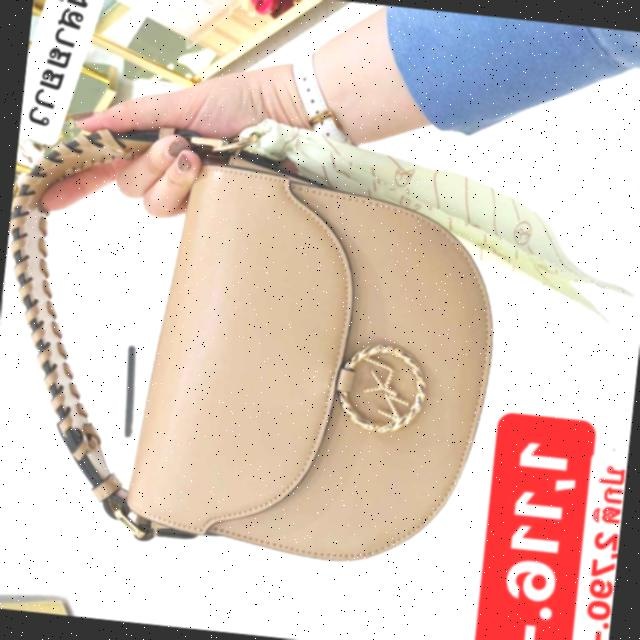handbag: (107, 114, 537, 614)
